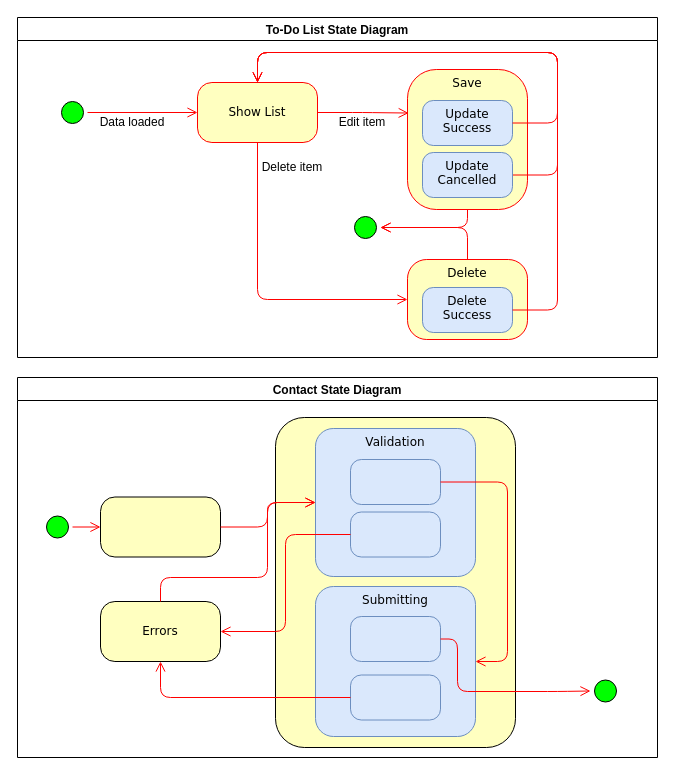
Image size: 675x775. Some labels were removed from this diagram. Here are the shapes that lost their labels. From the top down, the centre of each, then its label:
the point at 395,481: Validation Success
the point at 160,526: Normal
the point at 395,534: Validation Failure
the point at 395,639: Submitted Success
the point at 395,697: Submitted Faillure
